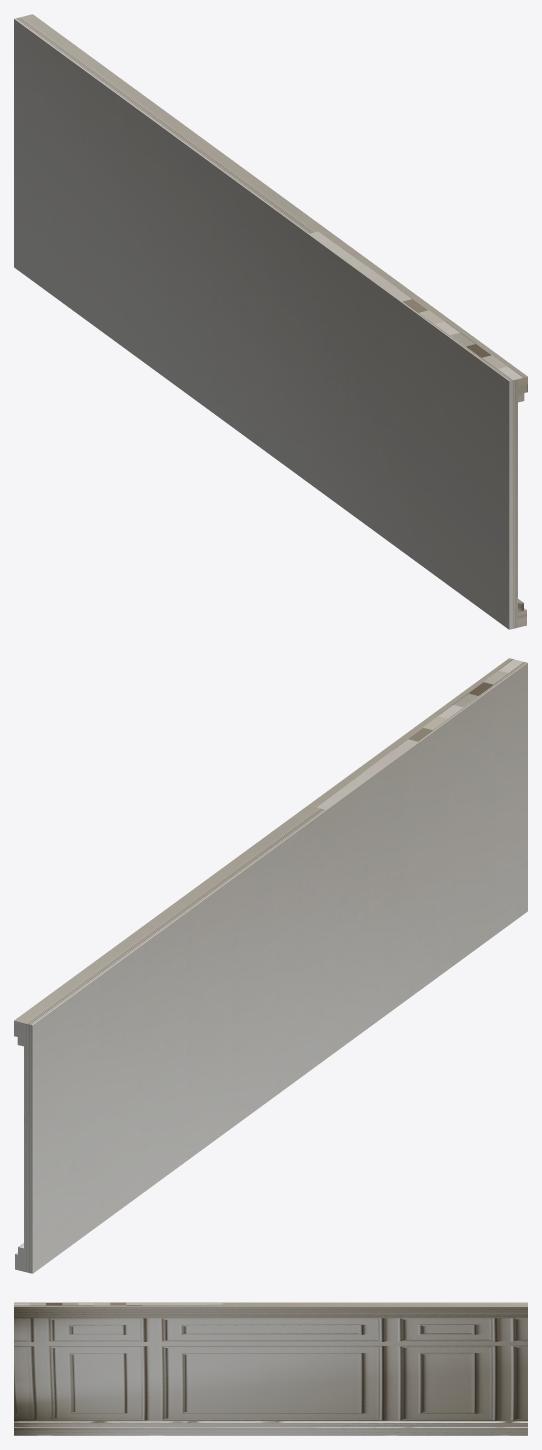
File: Wall.glb
3 views of the same model, one above another, from view 1: azimuth 30°, elevation 25°; view 2: azimuth 150°, elevation 25°; view 3: azimuth 270°, elevation 25° (orthographic). The views are drawn at different scales.
Parts seen in each view (by area): view 1: Cube; view 2: Cube; view 3: Cube.
Boxes of the visible parts, x1,y1,x2,y2 form: Cube: (14,14,527,629); Cube: (14,658,527,1273); Cube: (14,1302,527,1435).
Size of the model in its own units: 1.25 by 15.82 by 57.12.
Materials: 1 (1 with a texture image).
